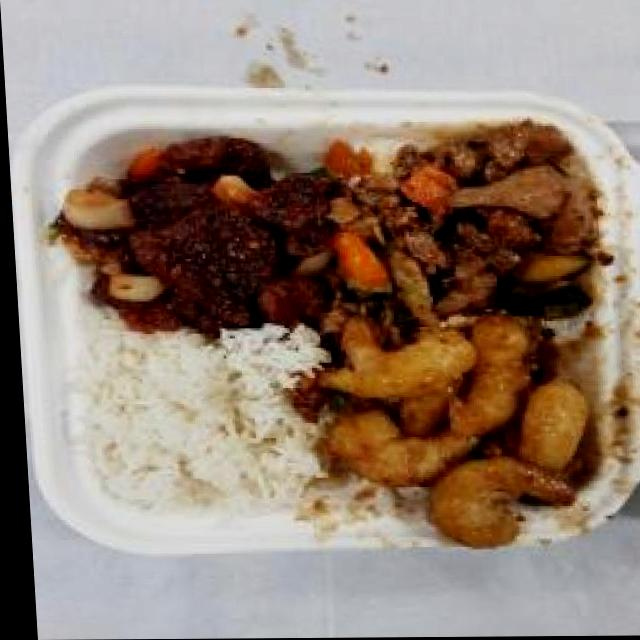Beijing Beef: (51, 131, 331, 336)
Honey Walnut Shrimp: (308, 312, 611, 541)
Kung Pao Chicken: (316, 121, 619, 338)
White Steamed Rice: (74, 333, 302, 515)
